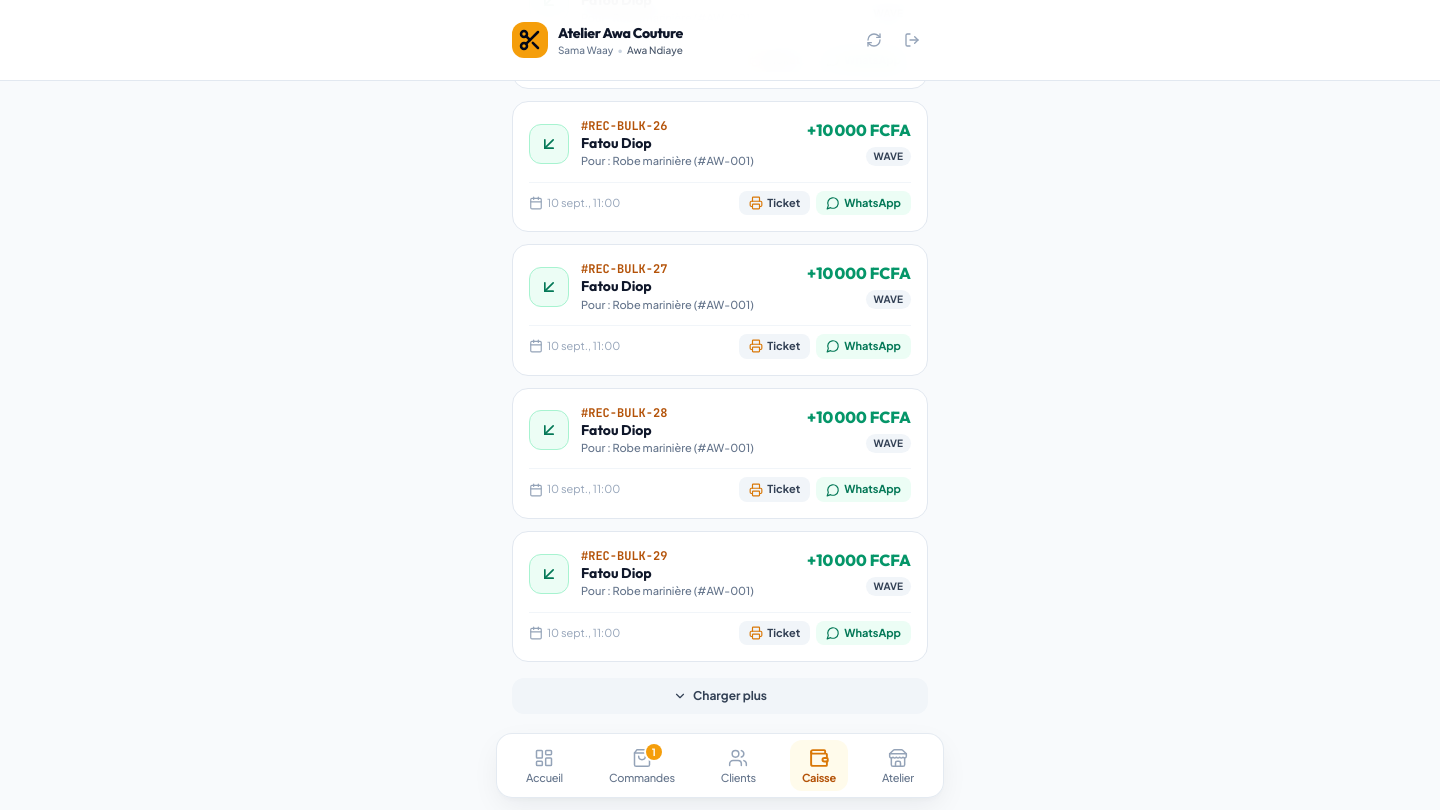
Test: listes paginées (« Charger plus ») › encaissements : « Charger plus » en bas du journal
(page scrolled)
Check: the text "#REC-BULK-32" is not shown
Click the button "Charger plus" at (720, 696), box [512, 678, 928, 714]
(page scrolled)
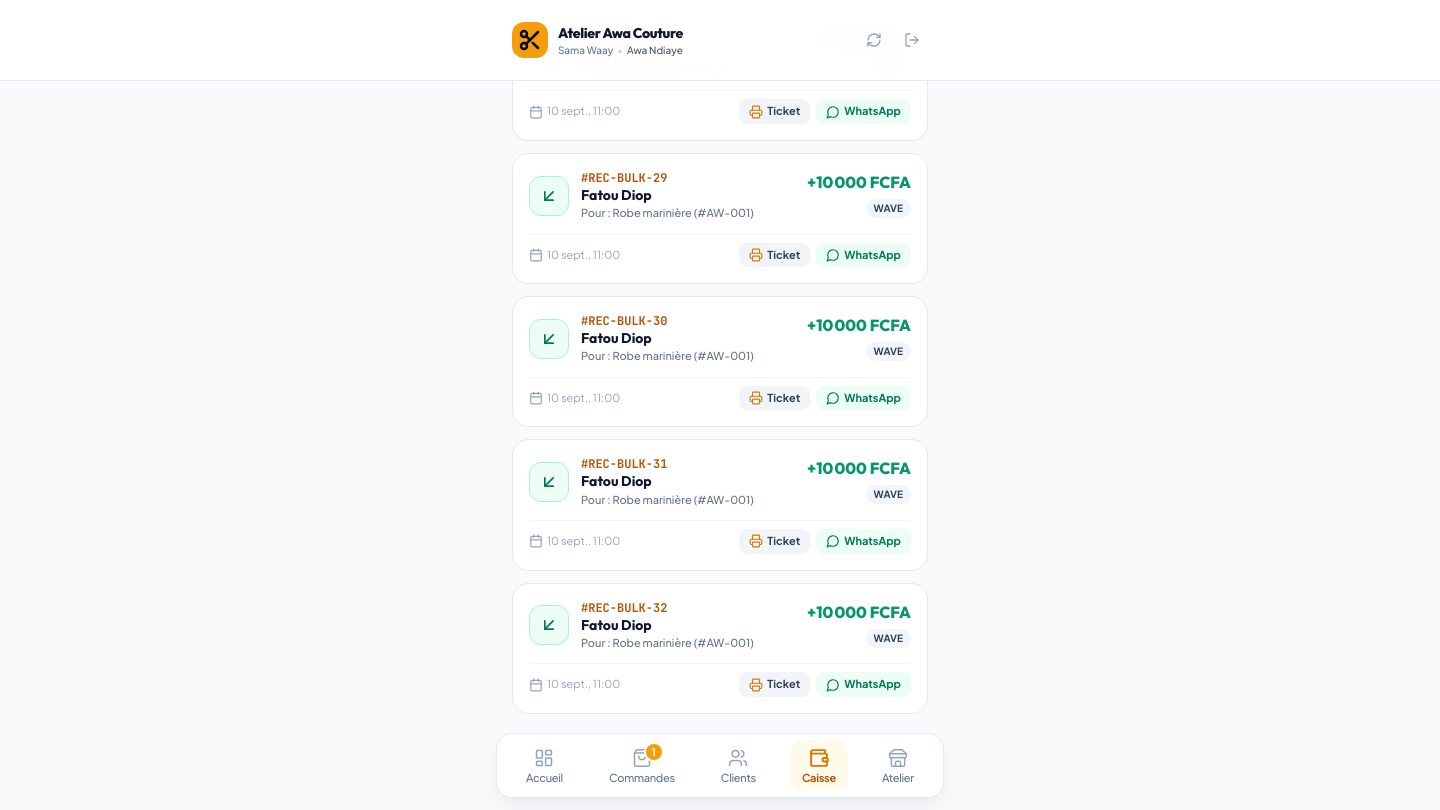
Check: the text "#REC-BULK-32" is shown, box [581, 600, 667, 616]
